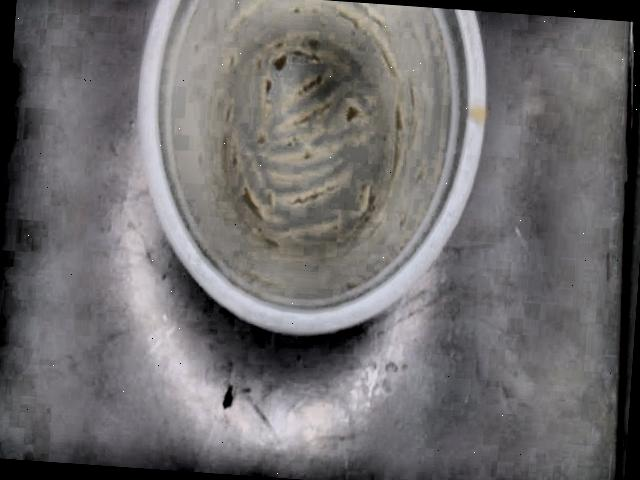Plastic: (141, 0, 489, 333)
